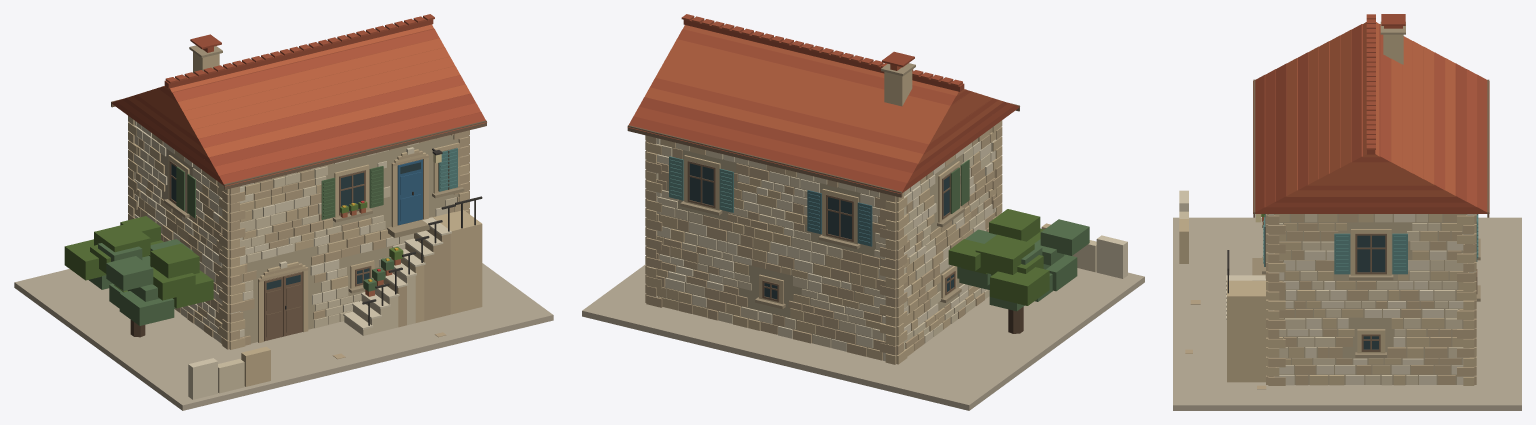
File: koy-evi-dis-merdivenli.glb
The picture shows the model from 3 angles, left to right: view 1: azimuth 30°, elevation 25°; view 2: azimuth 150°, elevation 25°; view 3: azimuth 270°, elevation 25°; orthographic projection. The views are drawn at different scales.
Visible parts, largest first — view 1: zemin, kiremit1, tas2, tas3, kiremit2, kiremit4, tas1, tas4, harc, asma2, ahsap, zeytin (+6 smaller); view 2: zemin, kiremit1, tas2, tas3, kiremit2, tas4, tas1, kiremit4, harc, asma2, zeytin, ahsap (+5 smaller); view 3: zemin, kiremit1, tas2, kiremit2, tas3, kiremit4, harc, tas4, tas1, ahsap, kepenk2, cam (+1 smaller).
Part boxes in pixels (box(x1,y1,x2,y2)): zemin: box(14, 263, 553, 410); kiremit1: box(127, 24, 470, 157); tas2: box(128, 52, 482, 386); tas3: box(128, 130, 469, 359); kiremit2: box(116, 14, 480, 176); kiremit4: box(112, 17, 486, 186); tas1: box(129, 122, 467, 393); tas4: box(133, 121, 467, 399); harc: box(135, 125, 458, 343); asma2: box(64, 216, 213, 308); ahsap: box(111, 99, 486, 340); zeytin: box(89, 239, 394, 325); zemin: box(582, 264, 1144, 410); kiremit1: box(644, 25, 1003, 164); tas2: box(645, 70, 1050, 364); tas3: box(645, 127, 1002, 356); kiremit2: box(634, 14, 1014, 183); tas4: box(647, 138, 1127, 361); tas1: box(647, 137, 1096, 354); kiremit4: box(627, 18, 1019, 193); harc: box(657, 139, 991, 360); asma2: box(948, 209, 1049, 305); zeytin: box(957, 219, 1089, 311); ahsap: box(627, 103, 1019, 301); zemin: box(1173, 217, 1521, 410); kiremit1: box(1285, 22, 1456, 196); tas2: box(1179, 34, 1476, 385); kiremit2: box(1265, 14, 1477, 207); tas3: box(1185, 214, 1476, 389); kiremit4: box(1253, 14, 1489, 213); harc: box(1274, 214, 1467, 384); tas4: box(1179, 190, 1475, 385); tas1: box(1179, 211, 1476, 385); ahsap: box(1253, 79, 1489, 351); kepenk2: box(1263, 214, 1478, 274); cam: box(1357, 235, 1385, 349).
Bounding box in the file's own units: 14.12 × 9.4 × 11.
